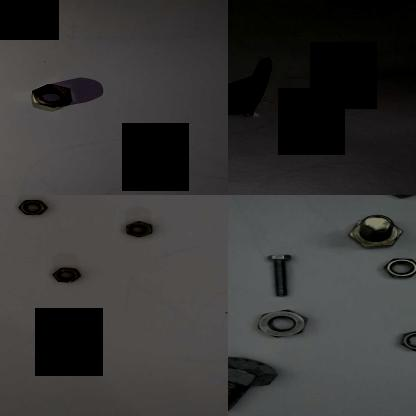Bolts: (228, 350, 284, 416), (346, 211, 416, 252), (264, 249, 302, 299), (228, 99, 256, 123)
NUTS: (255, 304, 314, 340), (28, 82, 77, 108), (383, 253, 416, 285), (122, 220, 162, 239), (390, 327, 416, 355), (50, 266, 88, 284), (16, 197, 50, 216)
